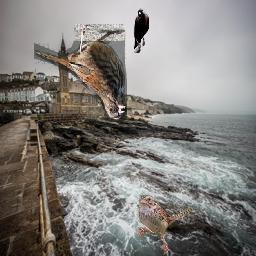Crow: (133, 9, 149, 54)
Sparrow: (35, 24, 128, 122), (136, 195, 194, 255)
